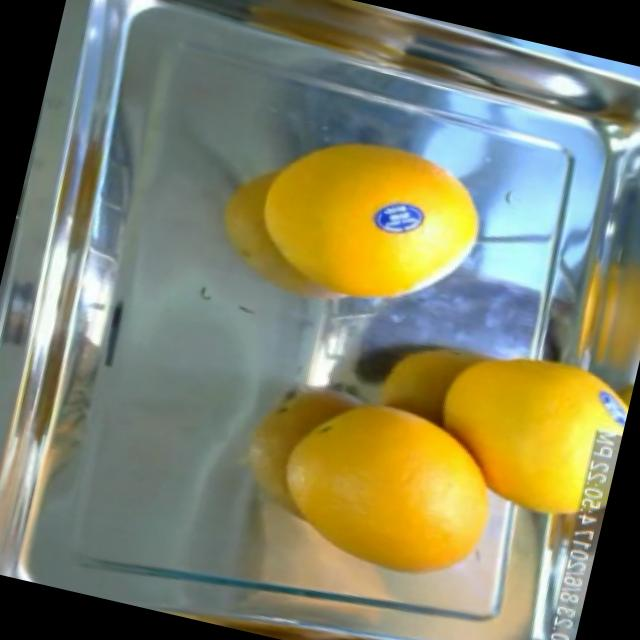Fruit: (192, 107, 414, 330)
